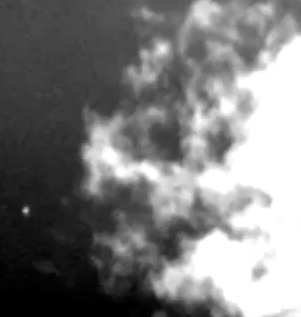Target: (23, 206, 30, 213)
